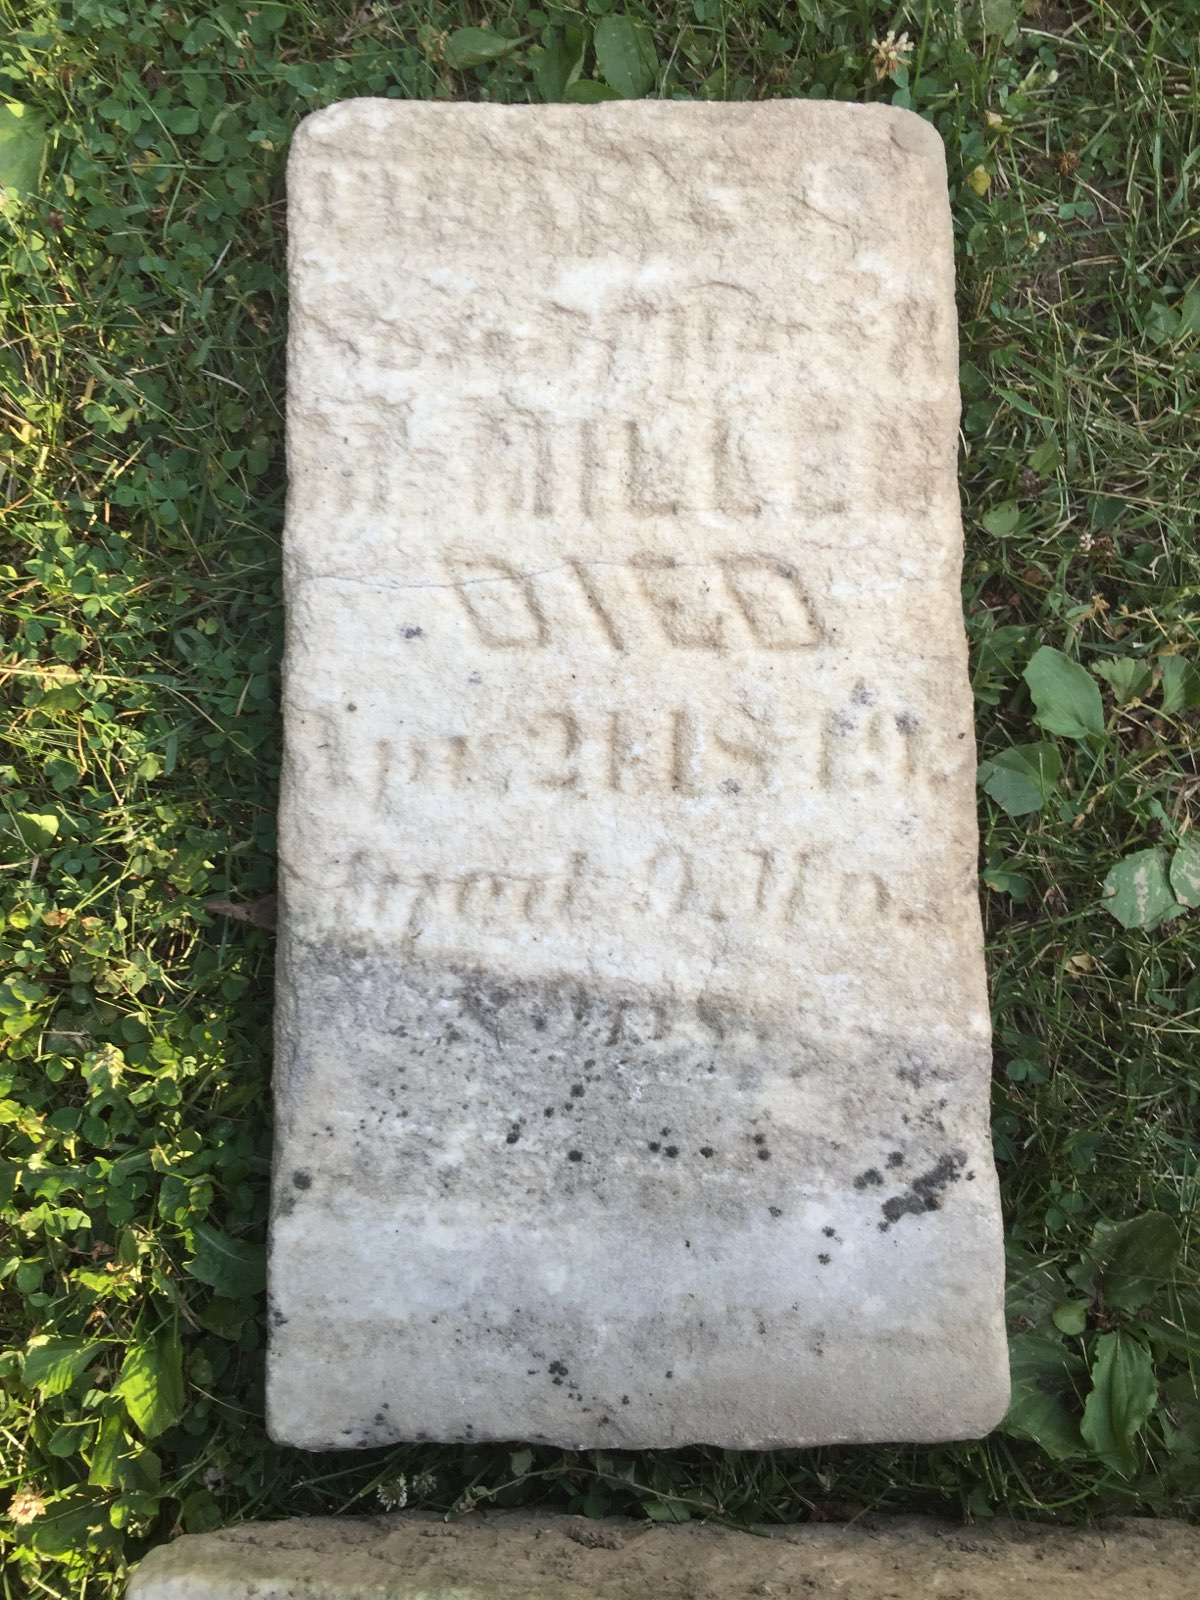flat: (261, 91, 1008, 1455)
